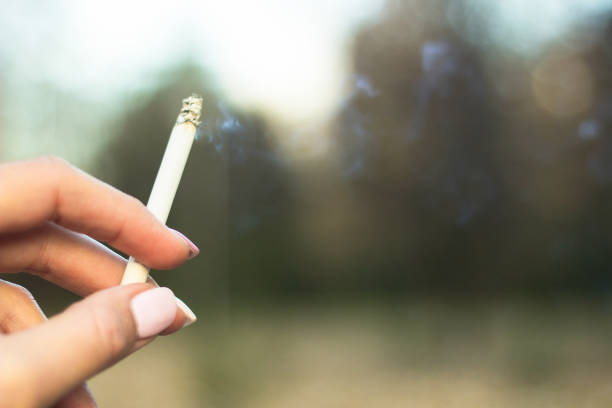cigarette: (119, 94, 209, 286)
